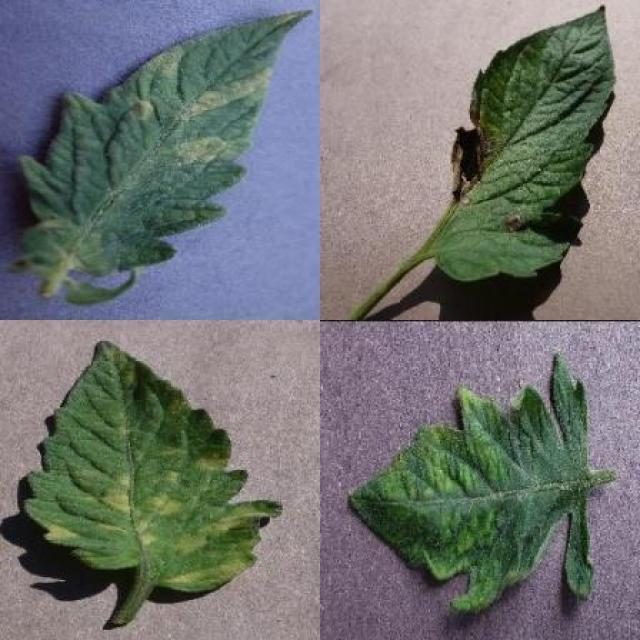Late Blight: (432, 5, 618, 281)
Leaf Mold: (18, 9, 312, 277), (24, 340, 282, 593)
Mosaic Virus: (342, 349, 598, 614)
